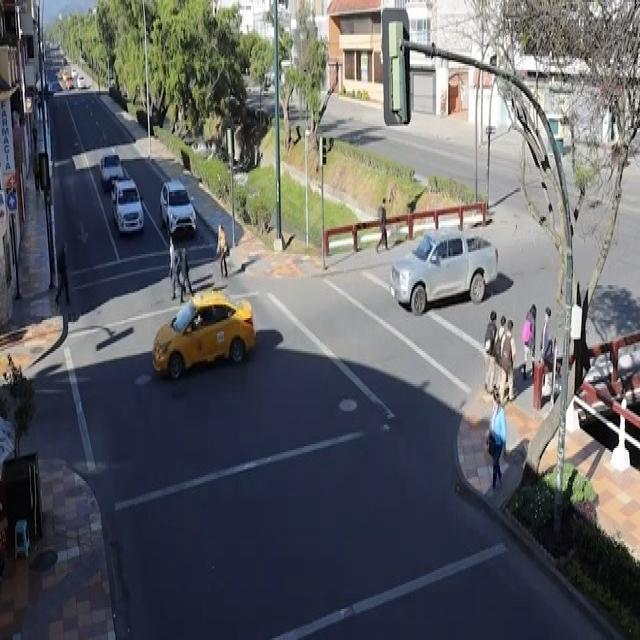CMT: (389, 229, 496, 311)
